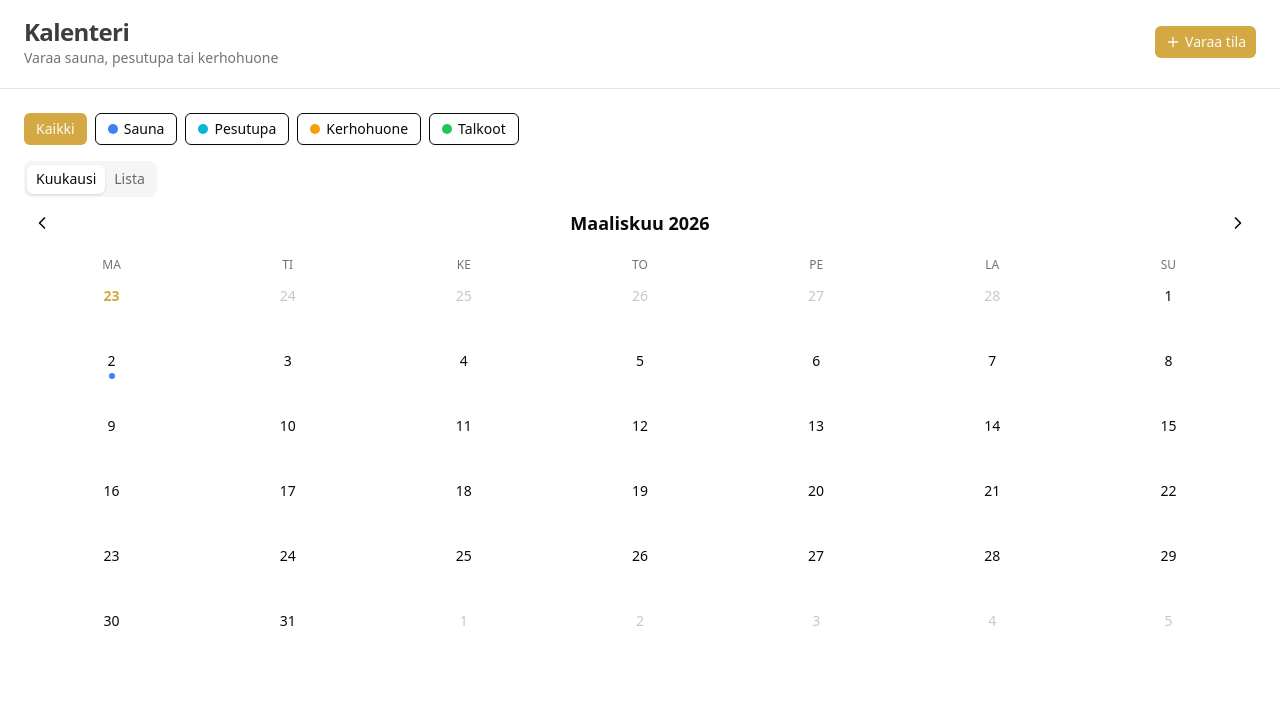
Test: CalendarPage › opens booking form dialog when "Varaa tila" is clicked
Click the button "Varaa tila" at (1206, 42), box [1155,26,1256,58]
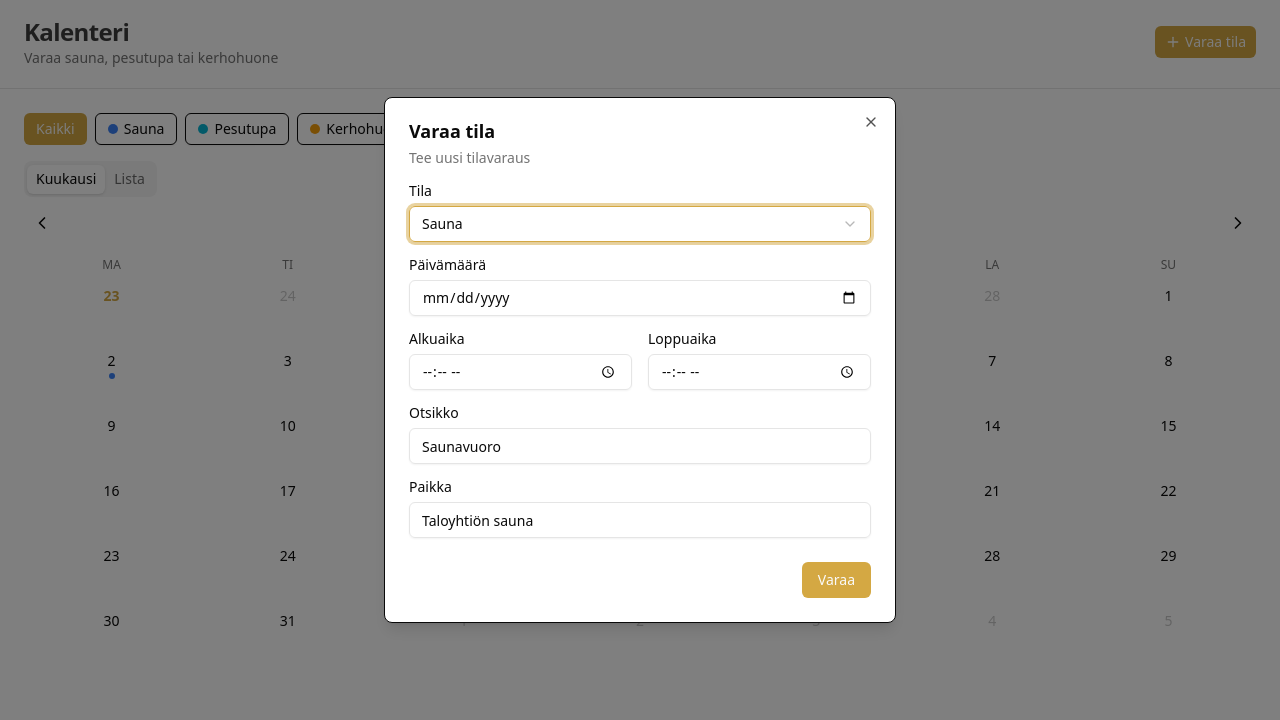
expect the text "Tee uusi tilavaraus" is shown: met, box [409,148,530,167]
